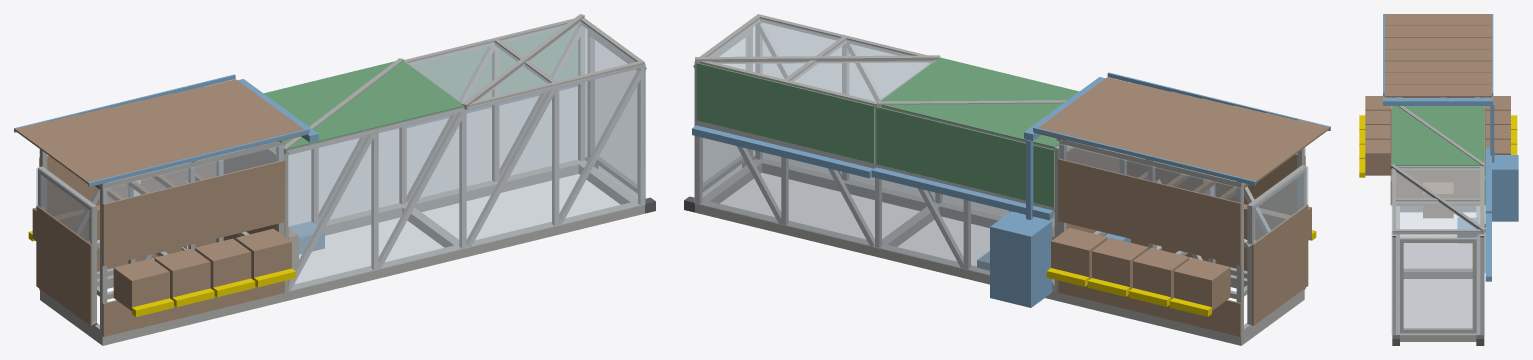
File: gallinero_tractor.gltf
The picture shows the model from 3 angles, left to right: view 1: azimuth 30°, elevation 25°; view 2: azimuth 150°, elevation 25°; view 3: azimuth 270°, elevation 25°; orthographic projection. The views are drawn at different scales.
Visible parts, largest first — view 1: Corral__malla_gallinero, Corral__gris_plastimadera, Forro__cafe_plastimadera, Techo__cafe_plastimadera, Niebla__arpilla_verde, Base__gris_plastimadera, Nidos__cafe_plastimadera, Ventilación__malla_vent, Puertas__cafe_plastimadera, Estructura__gris_plastimadera, Techo__pvc_azul, Nidos__cajon_amarillo (+3 smaller); view 2: Corral__malla_gallinero, Niebla__arpilla_verde, Forro__cafe_plastimadera, Techo__cafe_plastimadera, Corral__gris_plastimadera, Base__gris_plastimadera, Nidos__cafe_plastimadera, Dispositivos__pvc_azul, Ventilación__malla_vent, Puertas__cafe_plastimadera, Niebla__pvc_azul, Estructura__gris_plastimadera (+5 smaller); view 3: Corral__malla_gallinero, Techo__cafe_plastimadera, Corral__gris_plastimadera, Niebla__arpilla_verde, Nidos__cafe_plastimadera, Base__gris_plastimadera, Forro__cafe_plastimadera, Dispositivos__pvc_azul, Techo__pvc_azul, Puertas__cafe_plastimadera, Niebla__pvc_azul, Nidos__cajon_amarillo (+1 smaller).
Part boxes in pixels (left/top/right/bottom): Corral__malla_gallinero: left=273, top=21, right=645, bottom=291; Corral__gris_plastimadera: left=274, top=14, right=646, bottom=291; Forro__cafe_plastimadera: left=39, top=148, right=285, bottom=336; Techo__cafe_plastimadera: left=15, top=79, right=308, bottom=183; Niebla__arpilla_verde: left=264, top=25, right=577, bottom=149; Base__gris_plastimadera: left=40, top=159, right=644, bottom=345; Nidos__cafe_plastimadera: left=32, top=205, right=291, bottom=310; Ventilación__malla_vent: left=36, top=145, right=284, bottom=245; Puertas__cafe_plastimadera: left=36, top=205, right=298, bottom=325; Estructura__gris_plastimadera: left=40, top=141, right=283, bottom=335; Techo__pvc_azul: left=14, top=74, right=318, bottom=186; Nidos__cajon_amarillo: left=28, top=231, right=295, bottom=316; Corral__malla_gallinero: left=694, top=18, right=1071, bottom=290; Niebla__arpilla_verde: left=696, top=57, right=1079, bottom=207; Forro__cafe_plastimadera: left=1057, top=147, right=1305, bottom=336; Techo__cafe_plastimadera: left=1033, top=77, right=1329, bottom=182; Corral__gris_plastimadera: left=693, top=14, right=1068, bottom=291; Base__gris_plastimadera: left=695, top=158, right=1304, bottom=345; Nidos__cafe_plastimadera: left=1051, top=204, right=1311, bottom=310; Dispositivos__pvc_azul: left=990, top=211, right=1130, bottom=307; Ventilación__malla_vent: left=1058, top=144, right=1308, bottom=244; Puertas__cafe_plastimadera: left=1052, top=204, right=1308, bottom=325; Niebla__pvc_azul: left=692, top=125, right=1053, bottom=270; Estructura__gris_plastimadera: left=1059, top=140, right=1304, bottom=335; Corral__malla_gallinero: left=1391, top=106, right=1484, bottom=335; Techo__cafe_plastimadera: left=1384, top=14, right=1491, bottom=97; Corral__gris_plastimadera: left=1390, top=106, right=1485, bottom=334; Niebla__arpilla_verde: left=1392, top=106, right=1485, bottom=272; Nidos__cafe_plastimadera: left=1365, top=96, right=1510, bottom=175; Base__gris_plastimadera: left=1396, top=206, right=1480, bottom=341; Forro__cafe_plastimadera: left=1390, top=97, right=1485, bottom=205; Dispositivos__pvc_azul: left=1492, top=155, right=1518, bottom=221; Techo__pvc_azul: left=1383, top=14, right=1494, bottom=162; Puertas__cafe_plastimadera: left=1402, top=97, right=1474, bottom=218; Niebla__pvc_azul: left=1457, top=148, right=1491, bottom=281; Nidos__cajon_amarillo: left=1359, top=115, right=1517, bottom=177.
Size of the model in its own units: 6.34 by 1.82 by 2.08.
